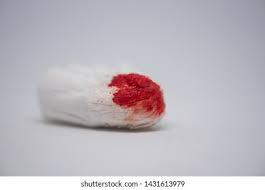cotton: (39, 64, 164, 128)
